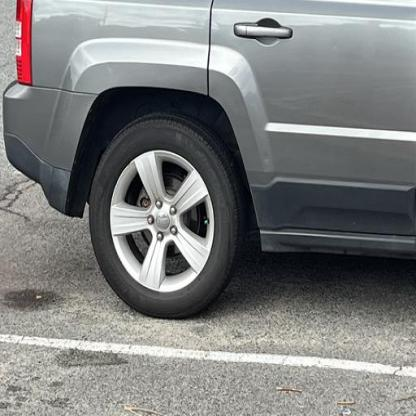Tire: (89, 110, 244, 321)
